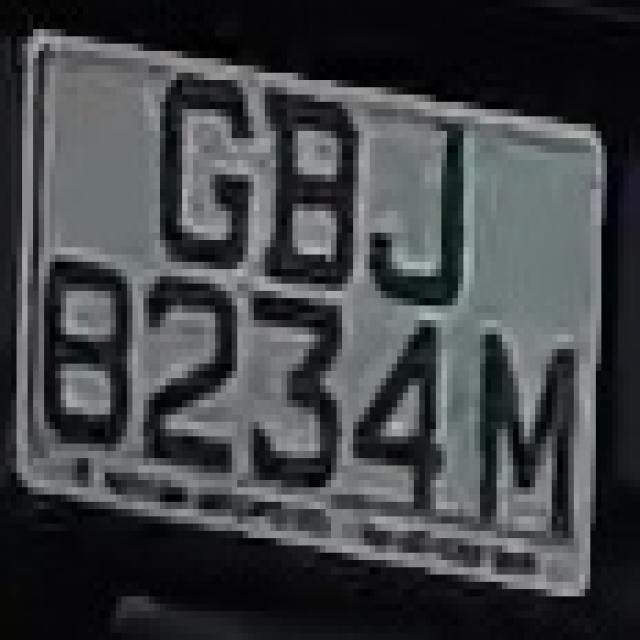2: (138, 248, 254, 488)
3: (254, 247, 358, 495)
4: (342, 284, 464, 538)
8: (44, 225, 144, 451)
B: (248, 73, 359, 334)
G: (143, 44, 260, 306)
J: (358, 87, 474, 313)
M: (452, 305, 580, 560)
